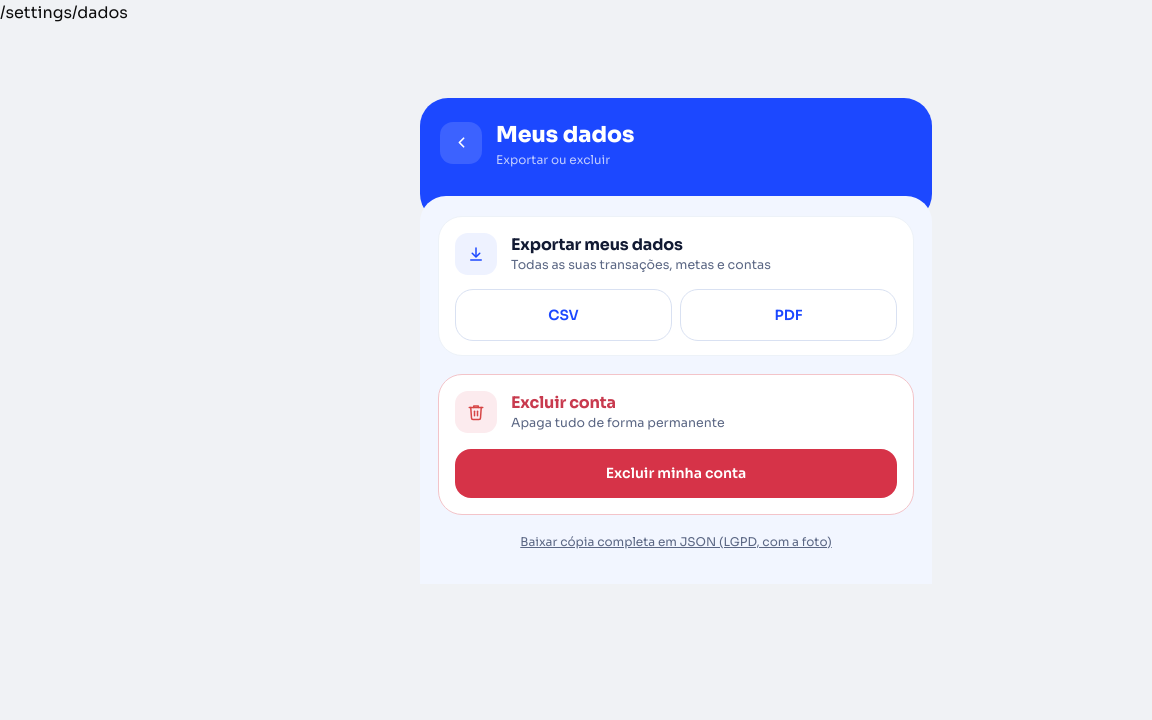
Test: Meus dados — excluir conta › abre a confirmação; o botão só liga com a senha digitada; Cancelar fecha sem excluir
Click the button "Excluir minha conta" at (676, 473), box [455,449,897,498]
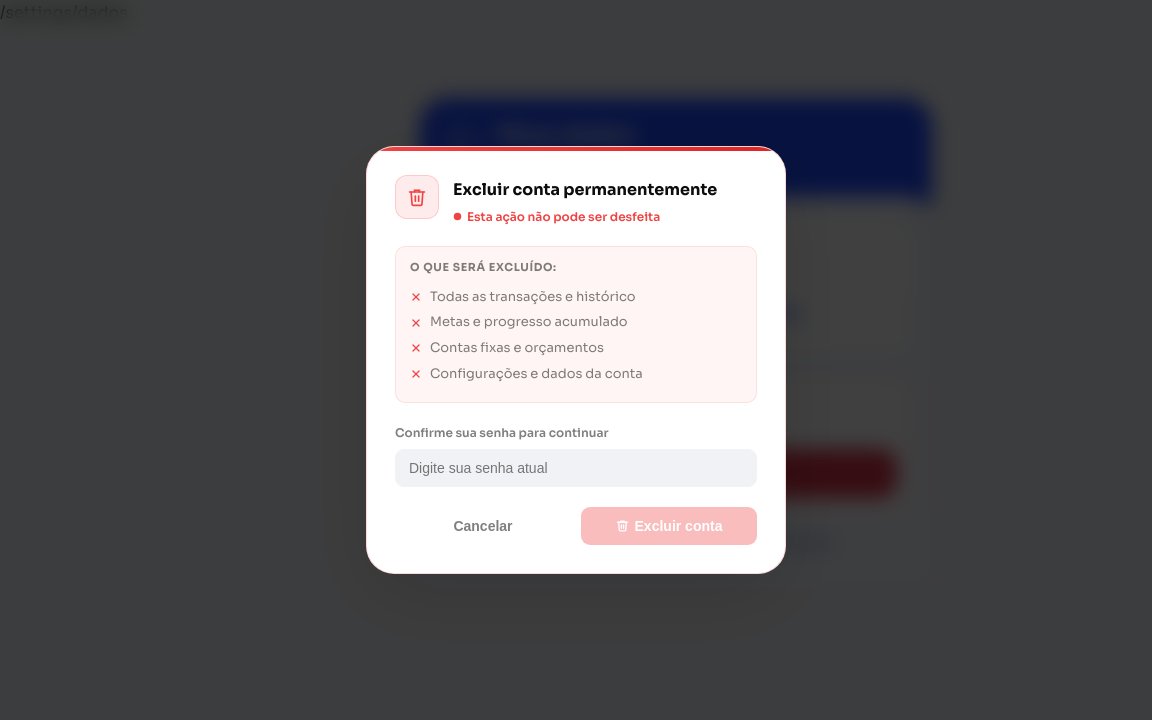
Expected: the text "Excluir conta permanentemente" is shown, [453,177,717,203]
Expected: the button "Excluir conta" is disabled, [581,507,757,545]
Type "Senha123" into the password field with placeholder "Digite sua senha atual" at (576, 468), box [395,449,757,487]
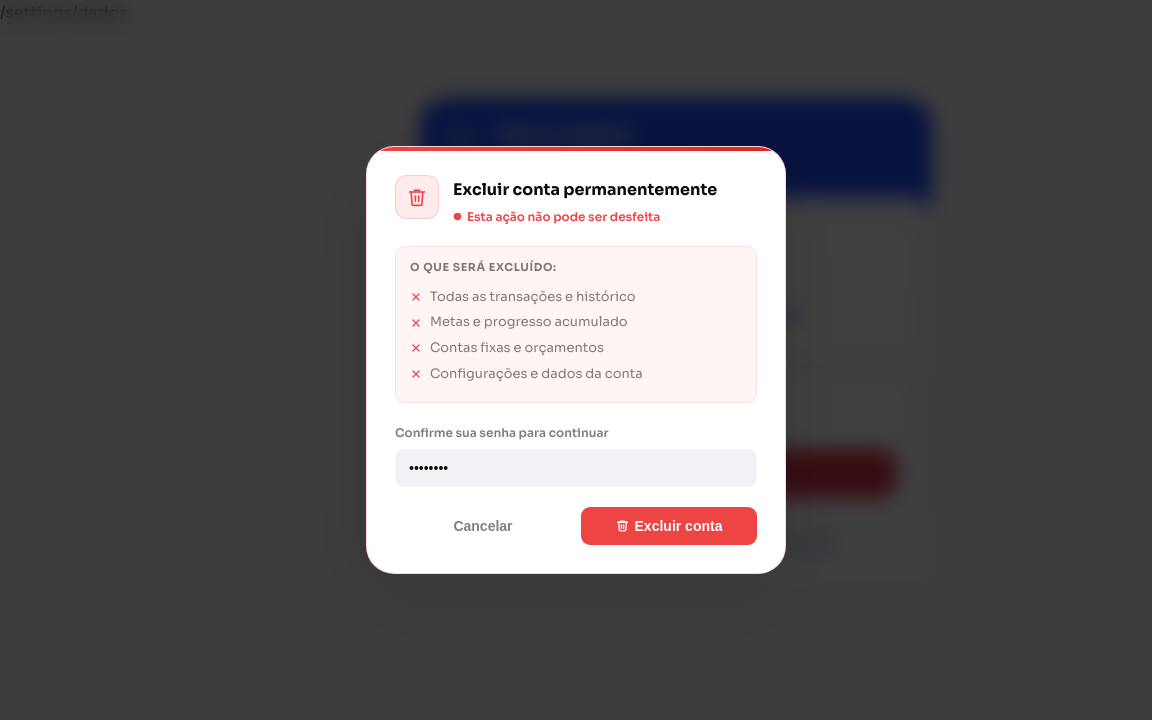
Expected: the button "Excluir conta" is enabled, [581,507,757,545]
Click the button "Cancelar" at (483, 526), box [395,507,571,545]
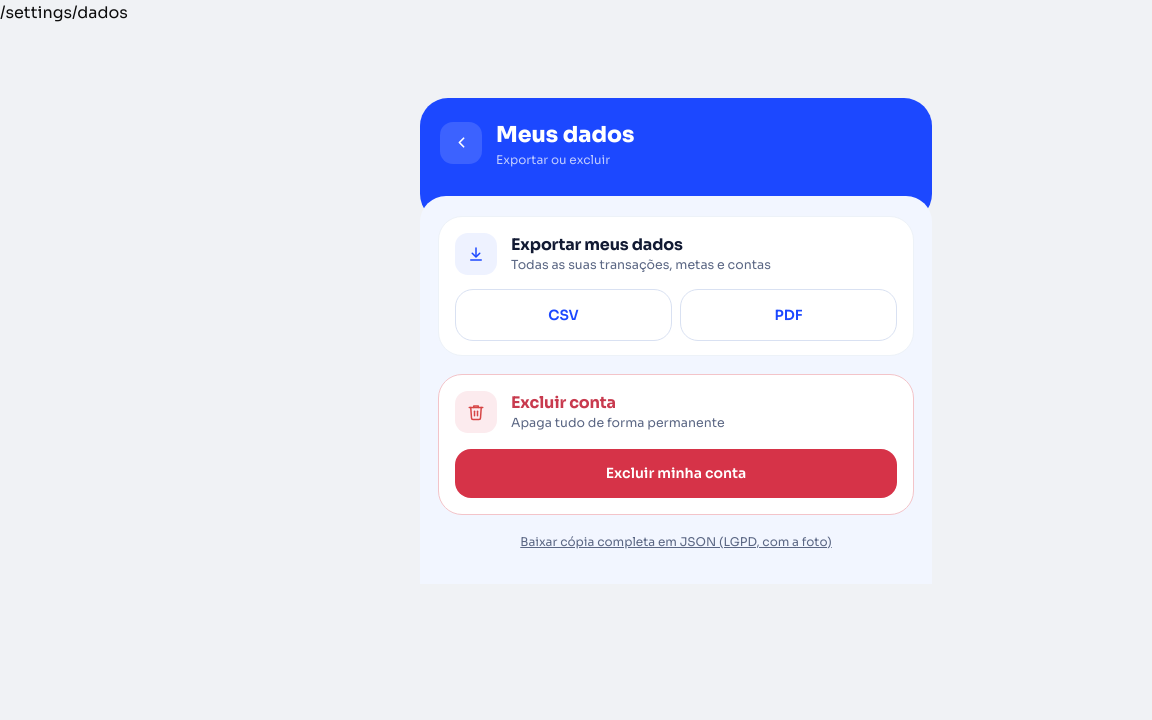
Expected: the text "Excluir conta permanentemente" is gone
